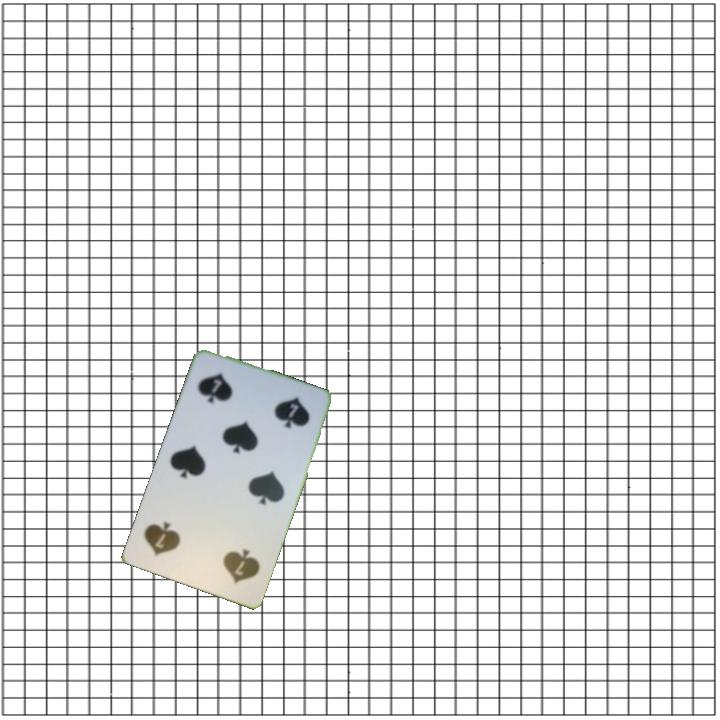s_7.png: (185, 357, 266, 432), (190, 522, 271, 597)
